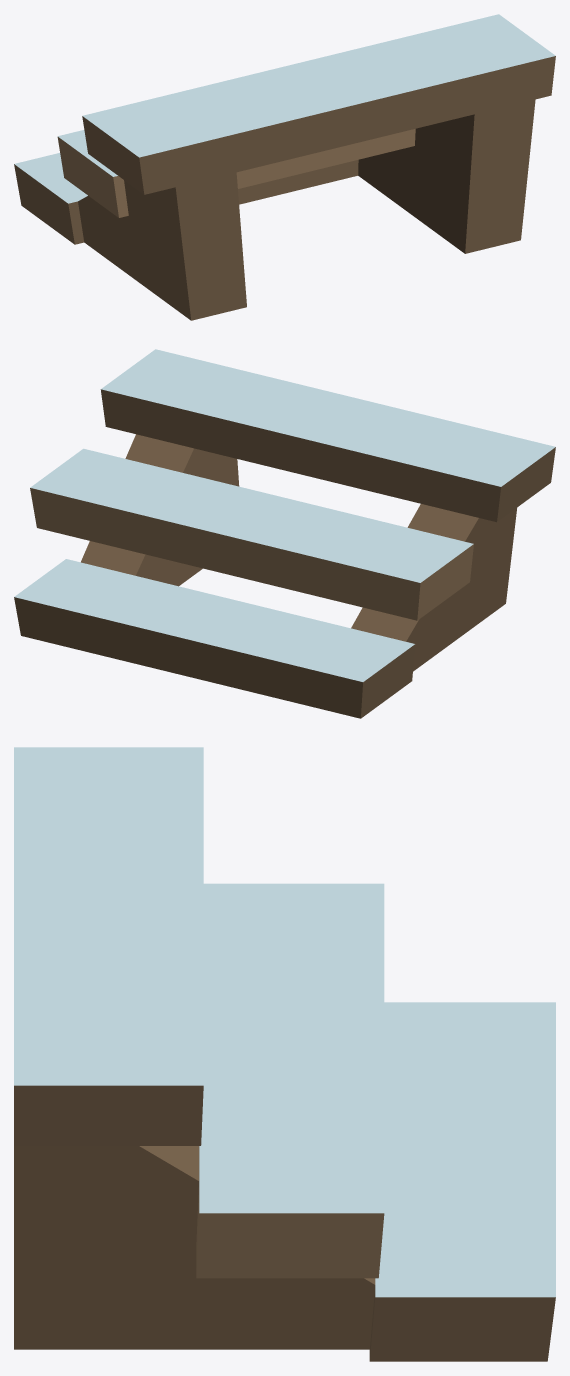
Rendered from SM_Prop_Stairs_Wood_01_Snow.fbx.
The picture shows the model from 3 angles, top to bottom: view 1: azimuth 30°, elevation 25°; view 2: azimuth 150°, elevation 25°; view 3: azimuth 270°, elevation 25°; orthographic projection. The views are drawn at different scales.
Parts seen in each view (by area): view 1: SM_Prop_Stairs_Wood_01_Snow; view 2: SM_Prop_Stairs_Wood_01_Snow; view 3: SM_Prop_Stairs_Wood_01_Snow.
Boxes of the visible parts, x1=… form: SM_Prop_Stairs_Wood_01_Snow: x1=14, y1=14, x2=555, y2=320; SM_Prop_Stairs_Wood_01_Snow: x1=14, y1=349, x2=555, y2=718; SM_Prop_Stairs_Wood_01_Snow: x1=14, y1=747, x2=555, y2=1361.
Size of the model in its own units: 57.84 by 22.29 by 37.44.
Materials: 1 (1 with a texture image).
